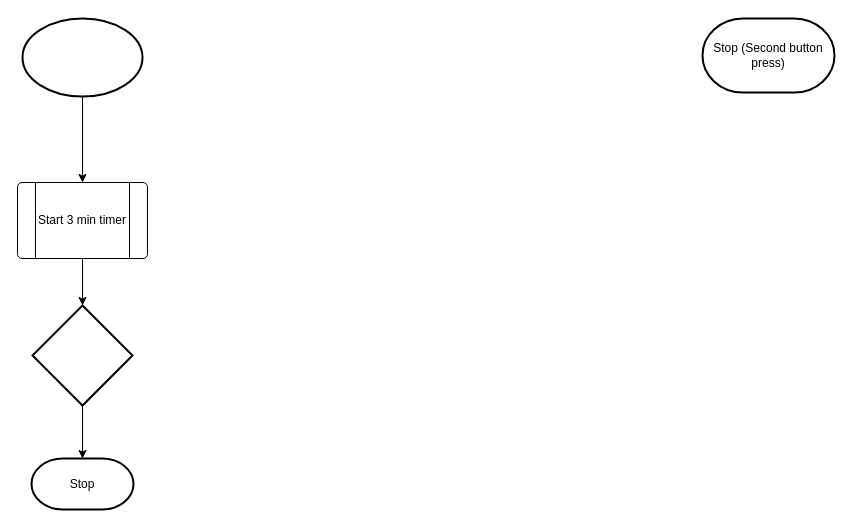
The diagram is 853 pixels wide and 527 high, and some of its shapes have lost their labels. The centre of each missing label's shape, as x and y in pixels:
"Start (Button ress)" goes at [82,57].
"Timer lapsed" goes at [82,355].
